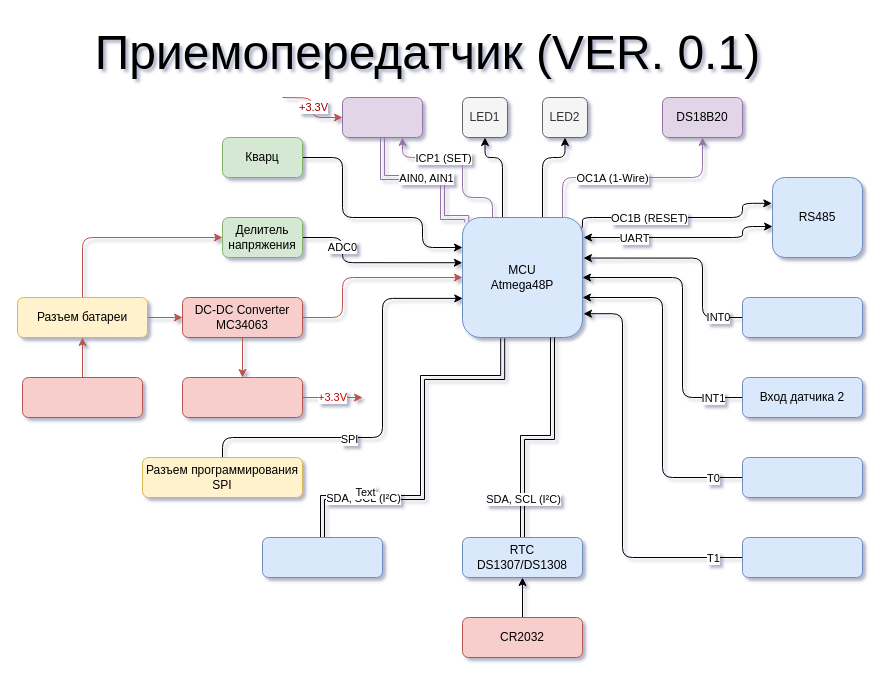
Some shapes in this 886 by 681 pixel diagram are drawn without their labels. The box of each missing label's shape, as (x1, y1, x2, y2) in pixels:
Battery: (22, 376, 142, 418)
HC-12: (342, 96, 422, 138)
LDO: (182, 376, 302, 418)
Serial EEPROM AT24C04C: (262, 536, 382, 578)
Вход датчика 1: (742, 296, 862, 338)
Вход датчика 3: (742, 456, 862, 498)
Вход датчика 4: (742, 536, 862, 578)
